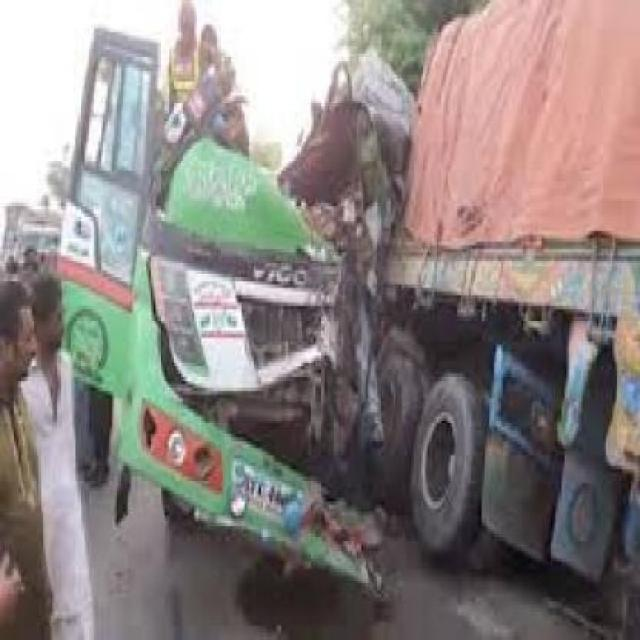accident: (64, 0, 544, 588)
